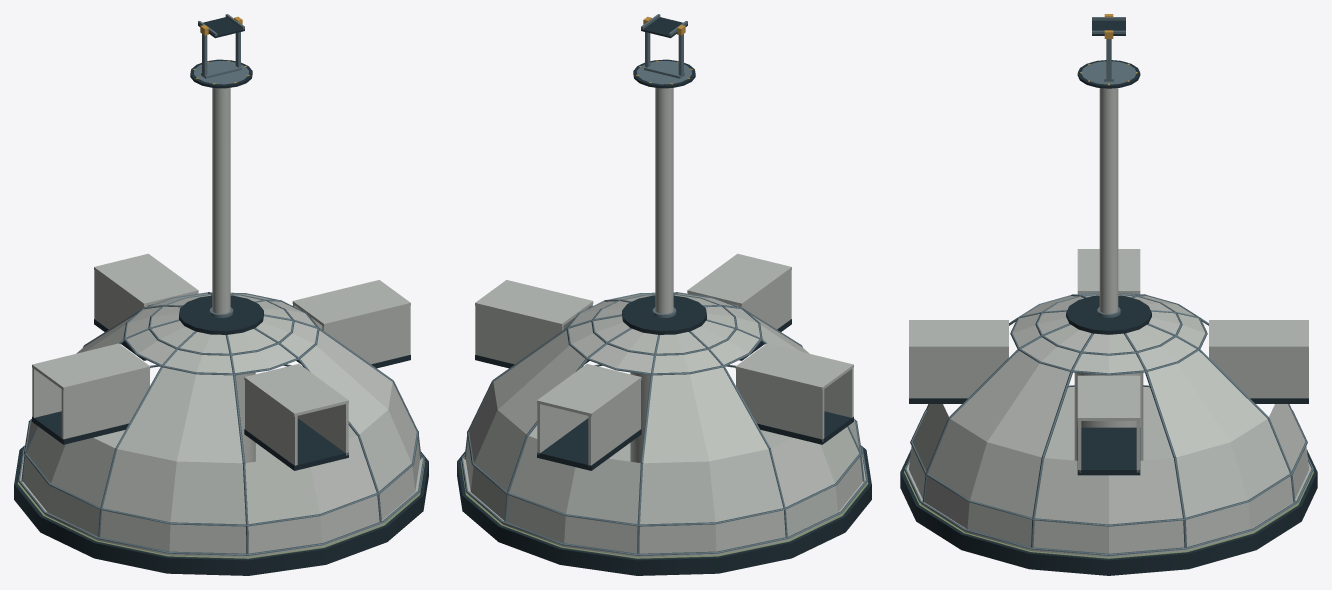
Rendered from logistics_d0_lod2.glb.
3 views of the same model, side by side, from view 1: azimuth 30°, elevation 25°; view 2: azimuth 150°, elevation 25°; view 3: azimuth 270°, elevation 25° (orthographic).
Parts seen in each view (by area): view 1: BODY; view 2: BODY; view 3: BODY.
Part boxes in pixels (<box>): BODY: <box>14,14,428,575</box>; BODY: <box>457,14,871,575</box>; BODY: <box>900,14,1317,575</box>.
Size of the model in its own units: 29.2 by 35.85 by 29.2.
